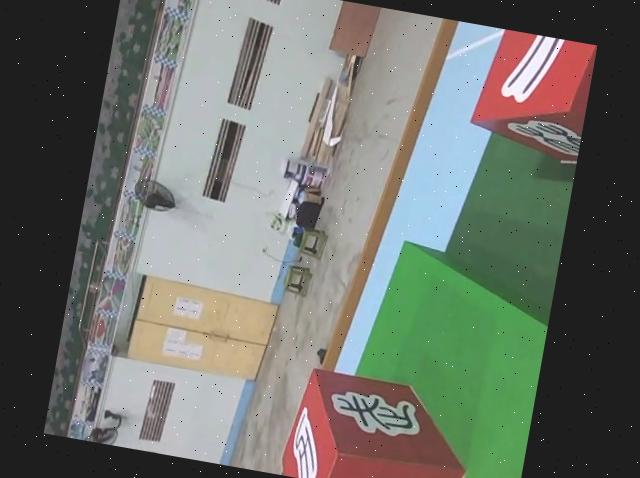R2 Fake: (273, 361, 479, 478), (463, 25, 597, 165)
